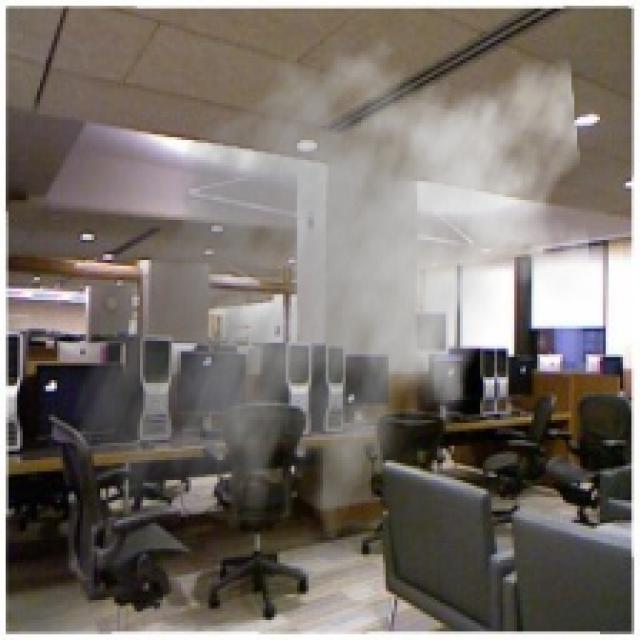smoke: (69, 20, 594, 574)
